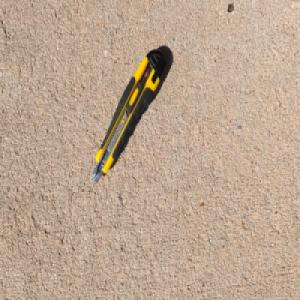Cutter: (90, 47, 167, 185)
